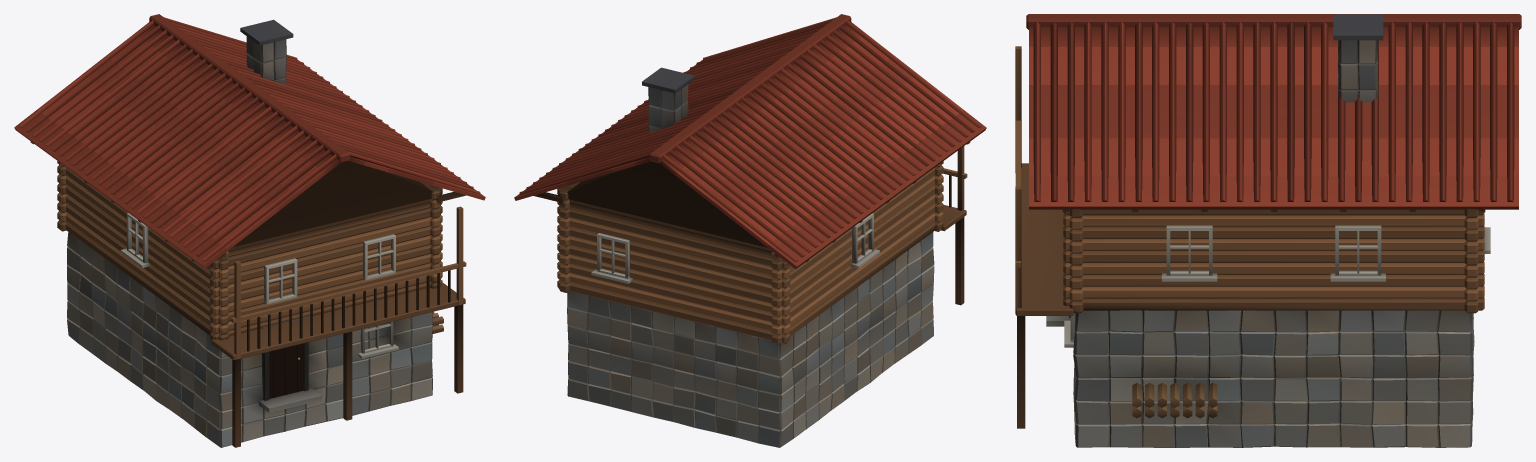
File: house_yayla_1.glb
The picture shows the model from 3 angles, left to right: view 1: azimuth 30°, elevation 25°; view 2: azimuth 150°, elevation 25°; view 3: azimuth 270°, elevation 25°; orthographic projection. The views are drawn at different scales.
Visible parts, largest first — view 1: box; view 2: box; view 3: box.
Part boxes in pixels (x1,y1,x2,y2): box: [14, 14, 485, 447]; box: [514, 14, 986, 447]; box: [1015, 14, 1521, 447].
Bounding box in the file's own units: 8 × 8.1 × 9.61.
